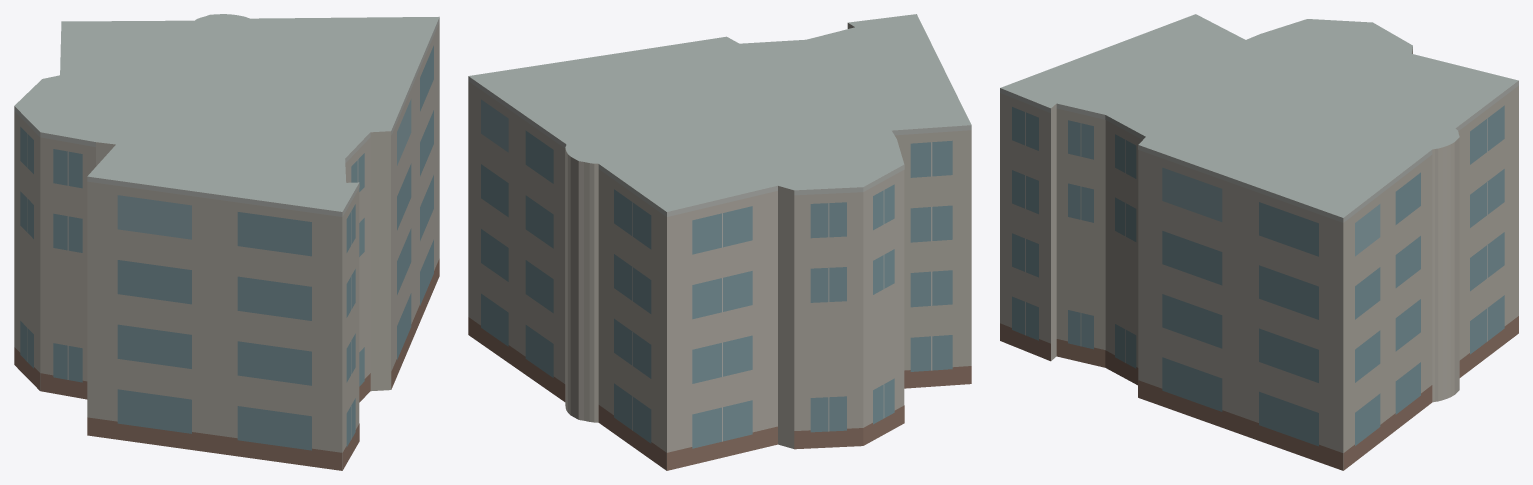
File: survey-upis-32895198.glb
3 renders of one model, left to right at view 1: azimuth 30°, elevation 25°; view 2: azimuth 150°, elevation 25°; view 3: azimuth 270°, elevation 25°, orthographic. The views are drawn at different scales.
Visible parts, largest first — view 1: survey-upis-32895198.tmp; view 2: survey-upis-32895198.tmp; view 3: survey-upis-32895198.tmp.
Part boxes in pixels (left/top/right/bottom): survey-upis-32895198.tmp: left=14, top=14, right=439, bottom=470; survey-upis-32895198.tmp: left=468, top=14, right=971, bottom=470; survey-upis-32895198.tmp: left=1000, top=14, right=1518, bottom=470.
Size of the model in its own units: 21.63 by 12.5 by 23.24.
